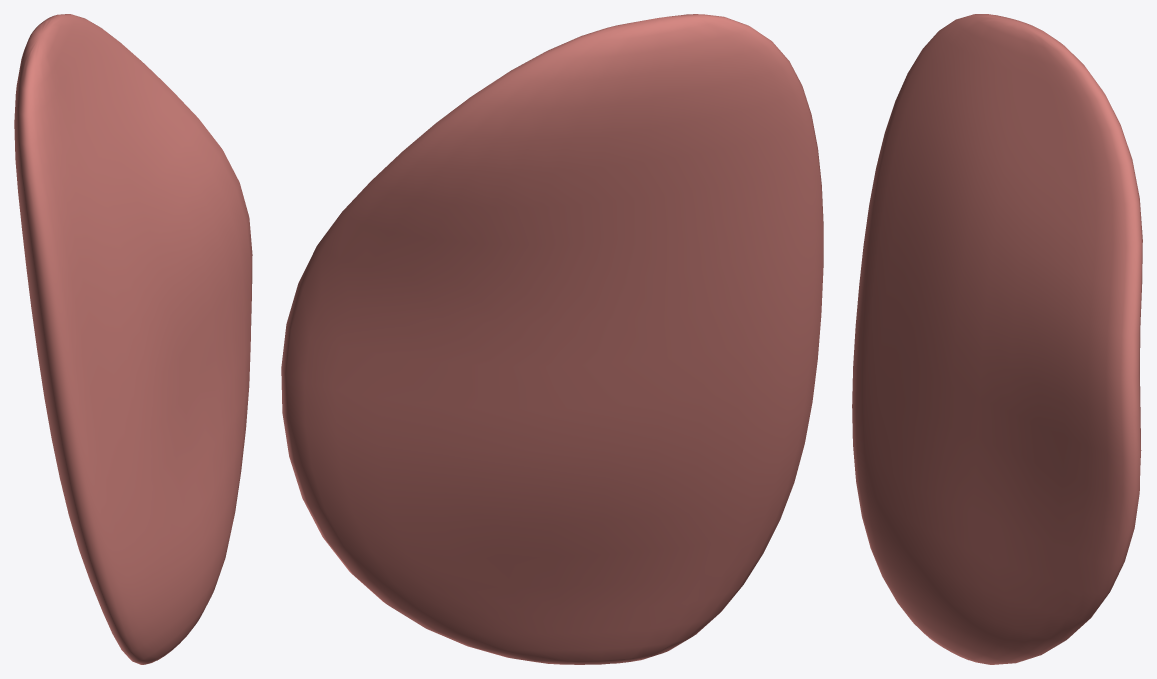
3 views of the same model, side by side, from view 1: azimuth 30°, elevation 25°; view 2: azimuth 150°, elevation 25°; view 3: azimuth 270°, elevation 25° (orthographic). The views are drawn at different scales.
Visible parts, largest first — view 1: ZA_fc9549d09988a9c4; view 2: ZA_fc9549d09988a9c4; view 3: ZA_fc9549d09988a9c4.
Part boxes in pixels (x1,y1,x2,y2): ZA_fc9549d09988a9c4: (14, 14, 252, 664); ZA_fc9549d09988a9c4: (281, 14, 823, 664); ZA_fc9549d09988a9c4: (852, 14, 1142, 664).
Size of the model in its own units: 0.0175 by 0.03 by 0.0135.
